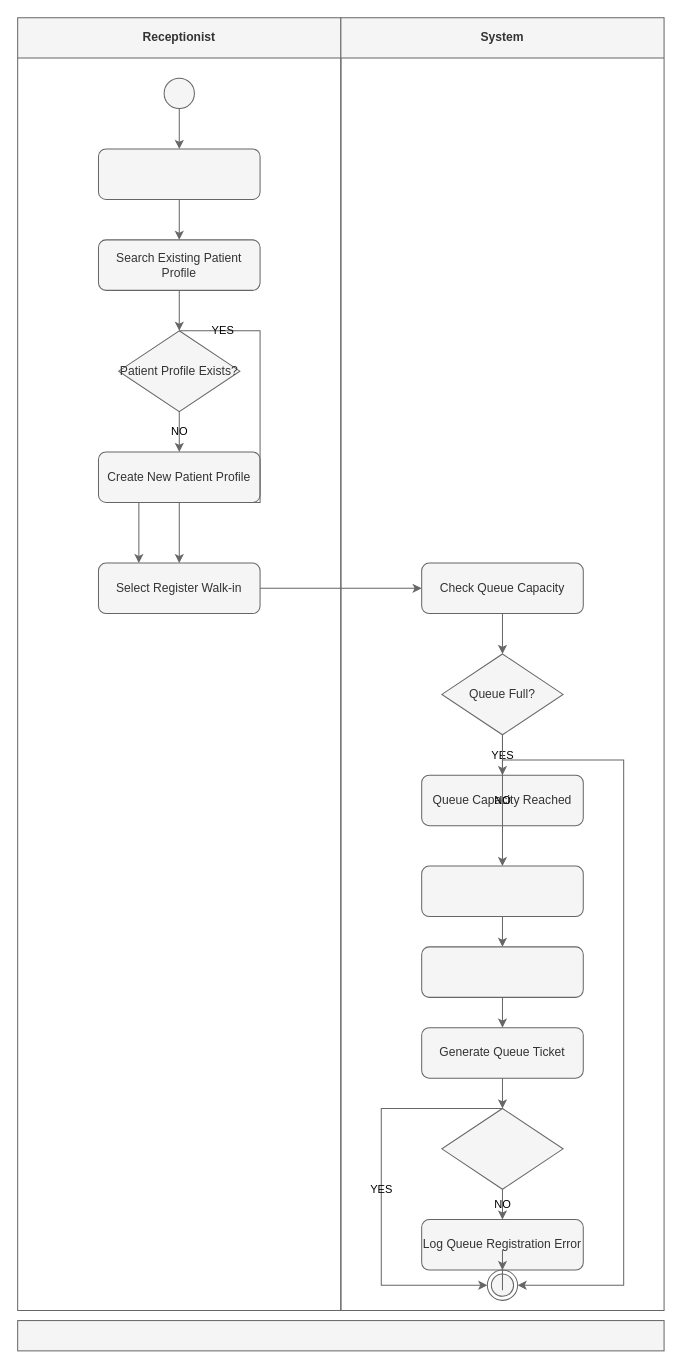
Some shapes in this 682 by 1369 pixel diagram are drawn without their labels. The centre of each missing label's shape, as x and y in pixels:
"Add Patient to Live Queue" goes at (502,971).
"Assign Queue Number" goes at (502,891).
"Open Queue Management Module" goes at (178,173).
"Postcondition: Patient added to active queue with unique queue number." goes at (340,1335).
"Registration Successful?" goes at (502,1148).
